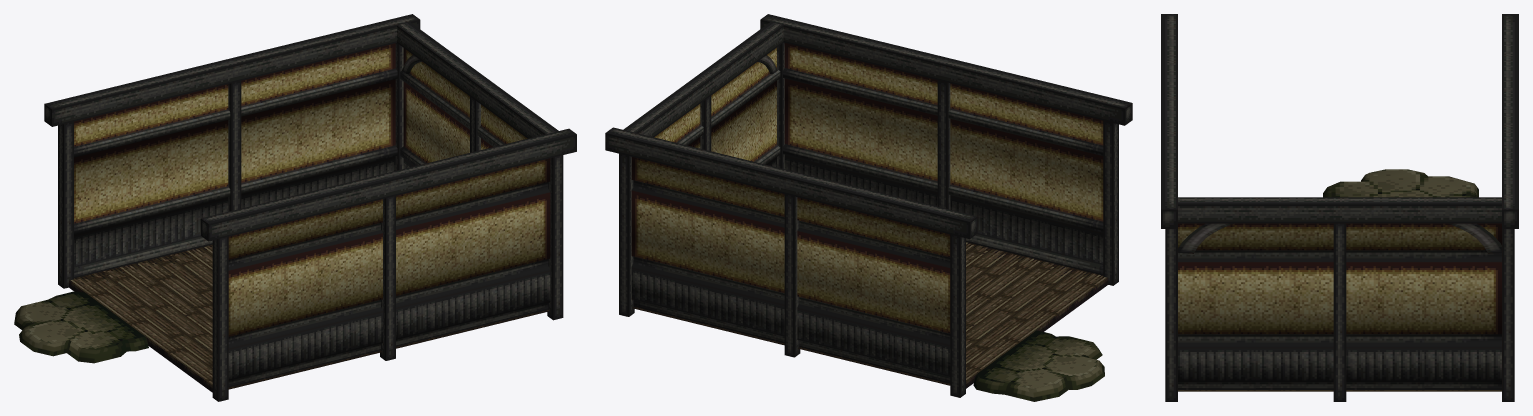
Rendered from EnvBdgMD_Forest_A_Indoor_House_A.FBX.
The picture shows the model from 3 angles, left to right: view 1: azimuth 30°, elevation 25°; view 2: azimuth 150°, elevation 25°; view 3: azimuth 270°, elevation 25°; orthographic projection. The views are drawn at different scales.
Parts seen in each view (by area): view 1: EnvBdgMD_Forest_A_Indoor_House_A; view 2: EnvBdgMD_Forest_A_Indoor_House_A; view 3: EnvBdgMD_Forest_A_Indoor_House_A.
Part boxes in pixels (box(x1,y1,x2,y2)): EnvBdgMD_Forest_A_Indoor_House_A: box(14, 14, 576, 401); EnvBdgMD_Forest_A_Indoor_House_A: box(605, 14, 1132, 401); EnvBdgMD_Forest_A_Indoor_House_A: box(1161, 14, 1518, 401).
Size of the model in its own units: 1320 by 525 by 850.
